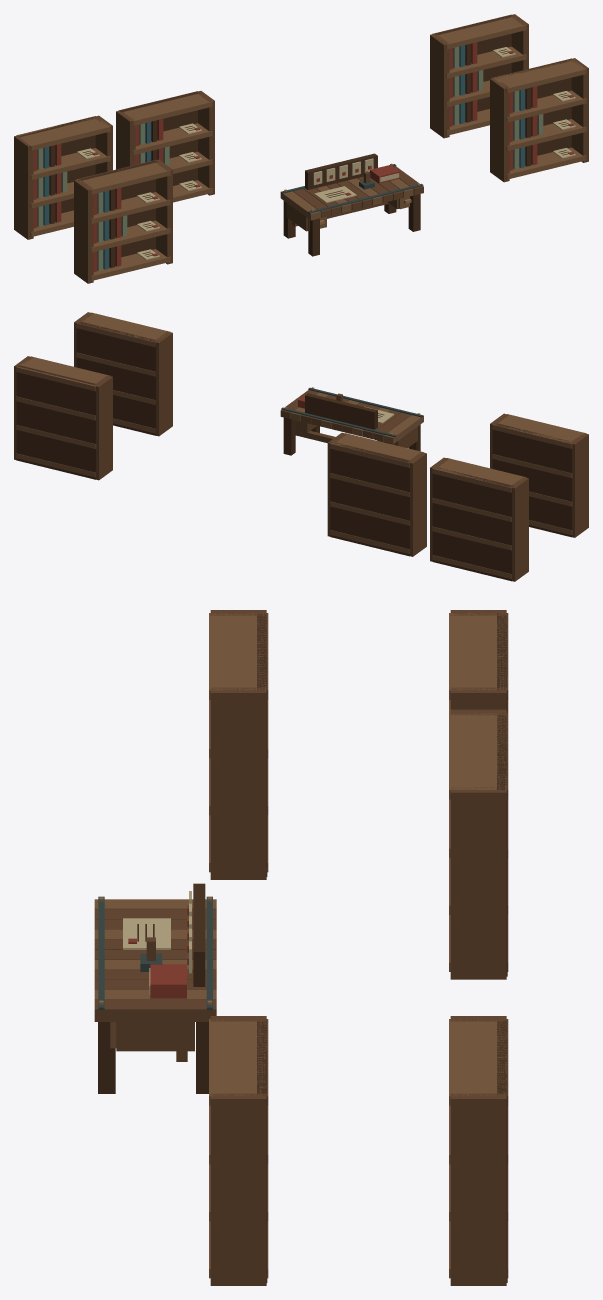
Rendered from B42_seal.glb.
3 views of the same model, one above another, from view 1: azimuth 30°, elevation 25°; view 2: azimuth 150°, elevation 25°; view 3: azimuth 270°, elevation 25° (orthographic). The views are drawn at different scales.
Parts seen in each view (by area): view 1: B42_seal__archive_E_ShelfBoard_woodlight, B42_seal__archive_W_ShelfBoard_woodlight, B42_seal__archive_NW_ShelfBoard_woodlight, B42_seal__archive_NE_ShelfBoard_woodlight, B42_seal__archive_N_ShelfBoard_woodlight, B42_seal__archive_E_ShelfUpright_wood, B42_seal__archive_W_ShelfUpright_wood, B42_seal__archive_NE_ShelfUpright_wood, B42_seal__archive_NW_ShelfUpright_wood, B42_seal__archive_N_ShelfUpright_wood, B42_seal__main_station_TableTop_wood, B42_seal__archive_W_ShelfBack_wooddark (+31 smaller); view 2: B42_seal__archive_NE_ShelfBack_wooddark, B42_seal__archive_N_ShelfBack_wooddark, B42_seal__archive_NW_ShelfBack_wooddark, B42_seal__archive_E_ShelfBack_wooddark, B42_seal__archive_W_ShelfBack_wooddark, B42_seal__archive_NW_ShelfBoard_woodlight, B42_seal__archive_NE_ShelfBoard_woodlight, B42_seal__archive_N_ShelfBoard_woodlight, B42_seal__archive_W_ShelfBoard_woodlight, B42_seal__archive_E_ShelfBoard_woodlight, B42_seal__archive_N_ShelfUpright_wood, B42_seal__archive_NW_ShelfUpright_wood (+9 smaller); view 3: B42_seal__archive_E_ShelfUpright_wood, B42_seal__archive_NE_ShelfUpright_wood, B42_seal__archive_W_ShelfUpright_wood, B42_seal__archive_N_ShelfUpright_wood, B42_seal__main_station_TableTop_wood, B42_seal__archive_N_ShelfBoard_woodlight, B42_seal__archive_W_ShelfBoard_woodlight, B42_seal__archive_NE_ShelfBoard_woodlight, B42_seal__archive_E_ShelfBoard_woodlight, B42_seal__archive_NW_ShelfBoard_woodlight, B42_seal__main_station_TableTop_woodlight, B42_seal__main_station_Drawer_wood (+11 smaller).
Part boxes in pixels (x1=…): B42_seal__archive_E_ShelfBoard_woodlight: x1=492, y1=58, x2=586, y2=179; B42_seal__archive_W_ShelfBoard_woodlight: x1=76, y1=160, x2=170, y2=280; B42_seal__archive_NW_ShelfBoard_woodlight: x1=16, y1=116, x2=110, y2=236; B42_seal__archive_NE_ShelfBoard_woodlight: x1=432, y1=14, x2=526, y2=135; B42_seal__archive_N_ShelfBoard_woodlight: x1=118, y1=91, x2=212, y2=202; B42_seal__archive_E_ShelfUpright_wood: x1=490, y1=58, x2=588, y2=182; B42_seal__archive_W_ShelfUpright_wood: x1=74, y1=159, x2=172, y2=283; B42_seal__archive_NE_ShelfUpright_wood: x1=430, y1=14, x2=528, y2=138; B42_seal__archive_NW_ShelfUpright_wood: x1=14, y1=115, x2=112, y2=239; B42_seal__archive_N_ShelfUpright_wood: x1=116, y1=91, x2=214, y2=195; B42_seal__main_station_TableTop_wood: x1=293, y1=166, x2=423, y2=217; B42_seal__archive_W_ShelfBack_wooddark: x1=78, y1=160, x2=157, y2=257; B42_seal__archive_NE_ShelfBack_wooddark: x1=16, y1=365, x2=98, y2=479; B42_seal__archive_N_ShelfBack_wooddark: x1=330, y1=442, x2=411, y2=556; B42_seal__archive_NW_ShelfBack_wooddark: x1=432, y1=467, x2=513, y2=581; B42_seal__archive_E_ShelfBack_wooddark: x1=76, y1=322, x2=157, y2=435; B42_seal__archive_W_ShelfBack_wooddark: x1=492, y1=423, x2=572, y2=537; B42_seal__archive_NW_ShelfBoard_woodlight: x1=432, y1=458, x2=526, y2=578; B42_seal__archive_NE_ShelfBoard_woodlight: x1=16, y1=356, x2=110, y2=477; B42_seal__archive_N_ShelfBoard_woodlight: x1=330, y1=433, x2=423, y2=553; B42_seal__archive_W_ShelfBoard_woodlight: x1=492, y1=414, x2=586, y2=534; B42_seal__archive_E_ShelfBoard_woodlight: x1=76, y1=312, x2=170, y2=433; B42_seal__archive_N_ShelfUpright_wood: x1=327, y1=432, x2=426, y2=556; B42_seal__archive_NW_ShelfUpright_wood: x1=430, y1=457, x2=528, y2=581; B42_seal__archive_E_ShelfUpright_wood: x1=210, y1=1016, x2=266, y2=1285; B42_seal__archive_NE_ShelfUpright_wood: x1=450, y1=1016, x2=506, y2=1285; B42_seal__archive_W_ShelfUpright_wood: x1=210, y1=610, x2=266, y2=879; B42_seal__archive_N_ShelfUpright_wood: x1=450, y1=709, x2=506, y2=979; B42_seal__main_station_TableTop_wood: x1=94, y1=909, x2=216, y2=1021; B42_seal__archive_N_ShelfBoard_woodlight: x1=449, y1=712, x2=508, y2=971; B42_seal__archive_W_ShelfBoard_woodlight: x1=209, y1=613, x2=268, y2=872; B42_seal__archive_NE_ShelfBoard_woodlight: x1=449, y1=1019, x2=508, y2=1278; B42_seal__archive_E_ShelfBoard_woodlight: x1=209, y1=1019, x2=268, y2=1278; B42_seal__archive_NW_ShelfBoard_woodlight: x1=449, y1=613, x2=508, y2=712; B42_seal__main_station_TableTop_woodlight: x1=94, y1=899, x2=216, y2=999; B42_seal__main_station_Drawer_wood: x1=116, y1=1022, x2=194, y2=1051.
Bounding box in the file's own units: 13.25 × 2.36 × 4.74.
